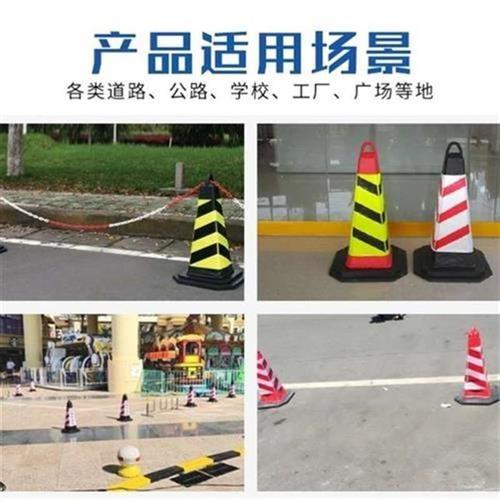cone_barrel: (334, 139, 398, 278), (420, 138, 482, 274), (173, 187, 237, 283), (449, 325, 493, 406), (252, 342, 293, 409), (54, 397, 80, 433), (112, 392, 132, 420), (183, 385, 196, 405), (205, 382, 216, 402)
